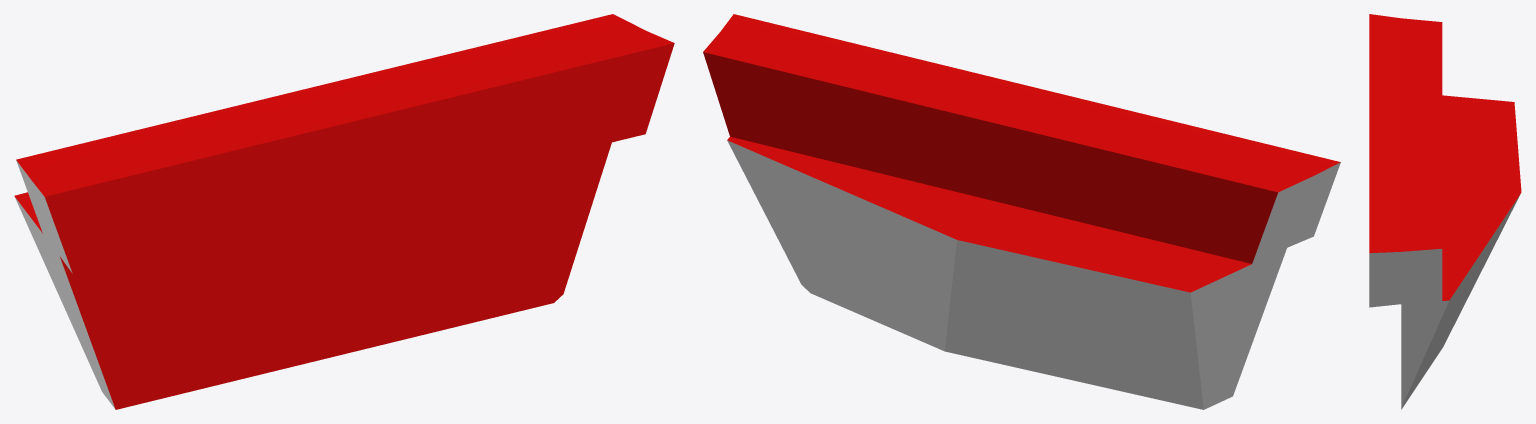
The model's file is mdl_ciudadela_pared_fracturepart10.fbx.
3 views of the same model, side by side, from view 1: azimuth 30°, elevation 25°; view 2: azimuth 150°, elevation 25°; view 3: azimuth 270°, elevation 25° (orthographic). The views are drawn at different scales.
Visible parts, largest first — view 1: mdl_ciudadela_pared_fracturepart10; view 2: mdl_ciudadela_pared_fracturepart10; view 3: mdl_ciudadela_pared_fracturepart10.
Boxes of the visible parts, x1,y1,x2,y2 form: mdl_ciudadela_pared_fracturepart10: (14,14,674,409); mdl_ciudadela_pared_fracturepart10: (703,14,1340,409); mdl_ciudadela_pared_fracturepart10: (1369,14,1521,409).
Bounding box in the file's own units: 11.08 × 4.21 × 2.98.
